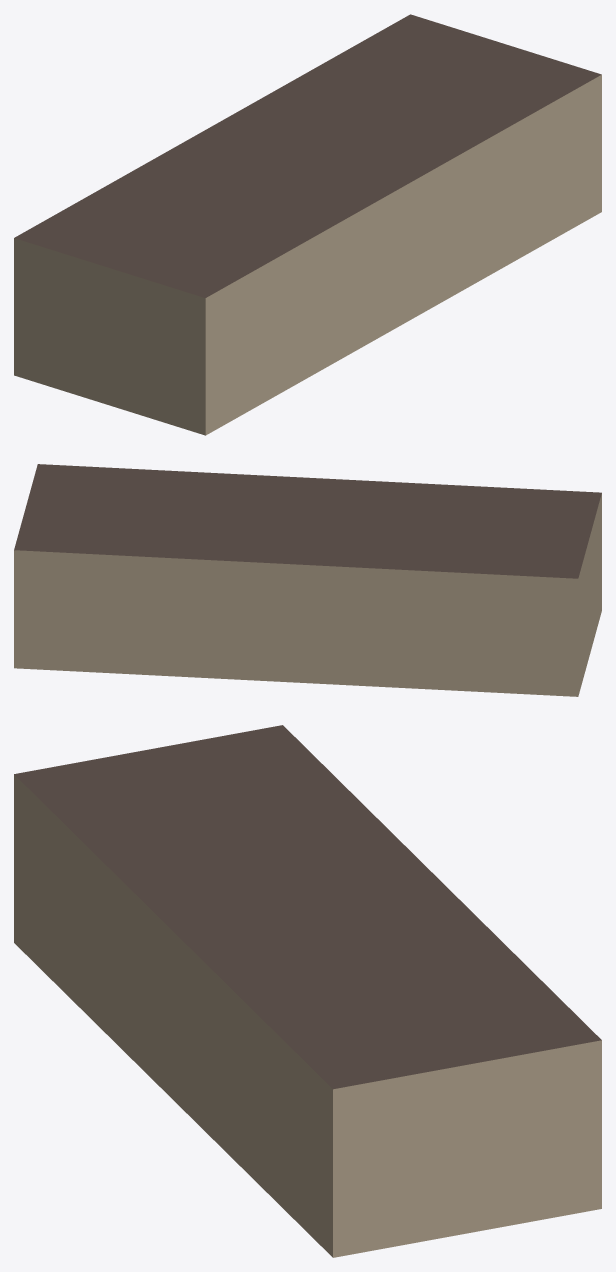
3 views of the same model, one above another, from view 1: azimuth 30°, elevation 25°; view 2: azimuth 150°, elevation 25°; view 3: azimuth 270°, elevation 25° (orthographic). The views are drawn at different scales.
Parts seen in each view (by area): view 1: HP-w369342581; view 2: HP-w369342581; view 3: HP-w369342581.
Part boxes in pixels (x1,y1,x2,y2): HP-w369342581: (14, 14, 601, 435); HP-w369342581: (14, 464, 601, 696); HP-w369342581: (14, 725, 601, 1257).
Bounding box in the file's own units: 41.69 × 9 × 28.44.
